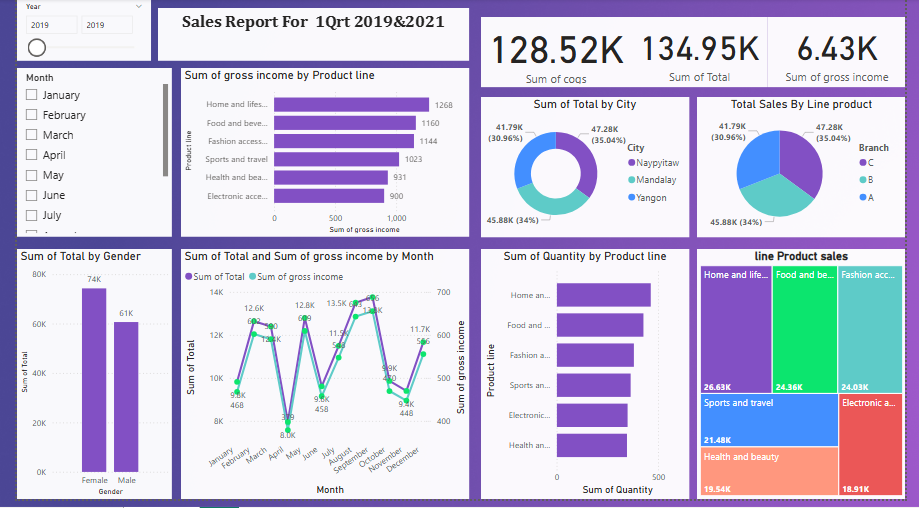

Layout of this report page (visuals, bound fields, positions):
{"tool":"powerbi","page":{"name":"Page 1","canvas":[1280,720],"ordinal":0},"visuals":[{"type":"card","fields":{"Values":["Sum(supermarket_sales.gross income)"]},"box":[1081.4,25.9,198.7,100.8],"z":0},{"type":"card","fields":{"Values":["Sum(supermarket_sales.Total)"]},"box":[884.2,25.9,197.3,100.8],"z":1000},{"type":"card","fields":{"Values":["Sum(supermarket_sales.cogs)"]},"box":[668.2,25.9,216,100.8],"z":2000},{"type":"pieChart","title":" Total Sales By Line product","fields":{"Category":["supermarket_sales.Branch"],"Y":["Sum(supermarket_sales.Total)"]},"box":[979.2,141.1,301,201.6],"z":3000},{"type":"donutChart","fields":{"Y":["Sum(supermarket_sales.Total)"],"Category":["supermarket_sales.City"]},"box":[668.2,141.1,299.5,201.6],"z":4000},{"type":"treemap","title":"line Product sales ","fields":{"Group":["supermarket_sales.Product line"],"Values":["Sum(supermarket_sales.Total)"]},"box":[979.2,360,301,360],"z":5000},{"type":"clusteredColumnChart","fields":{"Category":["supermarket_sales.Gender"],"Y":["Sum(supermarket_sales.Total)"]},"box":[0,360,223.2,360],"z":6000},{"type":"slicer","fields":{"Values":["supermarket_sales.Date.Variation.Date Hierarchy.Year"]},"box":[0,0,193,89.3],"z":7000},{"type":"slicer","fields":{"Values":["supermarket_sales.Date.Variation.Date Hierarchy.Month"]},"box":[0,99.4,223.2,243.4],"z":8000},{"type":"lineChart","fields":{"Category":["supermarket_sales.Date.Variation.Date Hierarchy.Month"],"Y":["Sum(supermarket_sales.Total)"],"Y2":["Sum(supermarket_sales.gross income)"]},"box":[236.2,360,414.7,360],"z":9000},{"type":"clusteredBarChart","fields":{"Category":["supermarket_sales.Product line"],"Y":["Sum(supermarket_sales.gross income)"]},"box":[236.2,99.4,414.7,243.4],"z":10000},{"type":"clusteredBarChart","fields":{"Y":["Sum(supermarket_sales.Quantity)"],"Category":["supermarket_sales.Product line"]},"box":[668.2,360,299.5,360],"z":11000},{"type":"textbox","box":[203,13,447.8,76.3],"z":12000}]}

Visuals, with their boxes in screenshot pixels (x1, y1, x2, y2), scaled from the page's 1280x720 canvas onto the 919x508 screenshot:
card - Sum(supermarket_sales.gross income): [776, 18, 918, 89]
card - Sum(supermarket_sales.Total): [635, 18, 776, 89]
card - Sum(supermarket_sales.cogs): [480, 18, 635, 89]
" Total Sales By Line product" pieChart: [703, 100, 918, 242]
donutChart - Sum(supermarket_sales.Total) x supermarket_sales.City: [480, 100, 695, 242]
"line Product sales " treemap: [703, 254, 918, 507]
clusteredColumnChart - supermarket_sales.Gender x Sum(supermarket_sales.Total): [0, 254, 160, 507]
slicer - supermarket_sales.Date.Variation.Date Hierarchy.Year: [0, 0, 139, 63]
slicer - supermarket_sales.Date.Variation.Date Hierarchy.Month: [0, 70, 160, 242]
lineChart - supermarket_sales.Date.Variation.Date Hierarchy.Month x Sum(supermarket_sales.Total): [170, 254, 467, 507]
clusteredBarChart - supermarket_sales.Product line x Sum(supermarket_sales.gross income): [170, 70, 467, 242]
clusteredBarChart - Sum(supermarket_sales.Quantity) x supermarket_sales.Product line: [480, 254, 695, 507]
textbox: [146, 9, 467, 63]
